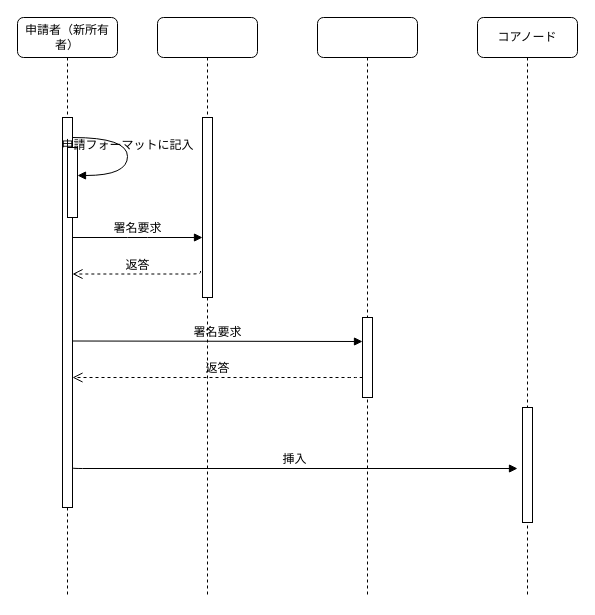
Some shapes in this 595 by 615 pixel diagram are drawn without their labels. Each missing label, with the centre of its shape:
"旧所有者" goes at [207,307].
"軽自動車協会" goes at [367,307].
